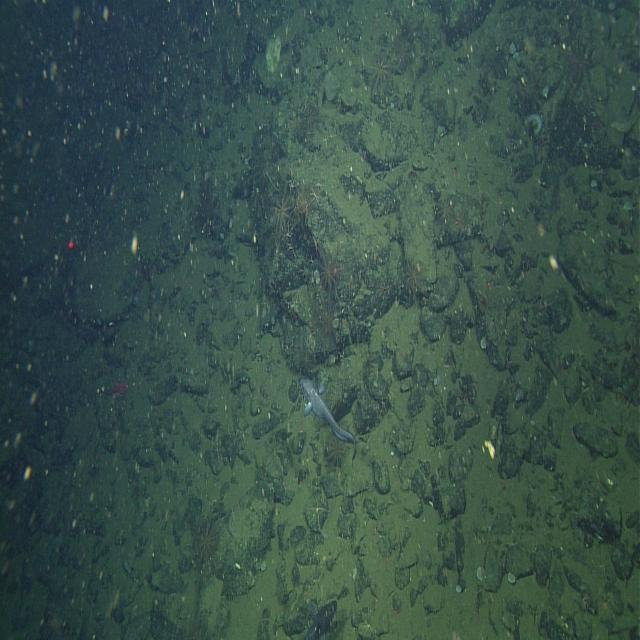Brittle Star: (295, 191, 313, 224), (284, 158, 300, 190), (374, 274, 391, 303), (451, 209, 467, 235), (361, 616, 376, 638)
Not Brittle Star: (298, 370, 362, 462), (556, 30, 597, 102), (190, 510, 223, 570), (364, 46, 399, 100), (266, 182, 294, 236), (315, 246, 344, 298), (307, 596, 339, 638), (400, 252, 426, 302), (99, 376, 132, 404), (294, 191, 312, 223), (525, 109, 544, 138), (227, 508, 238, 540), (260, 559, 266, 572)
